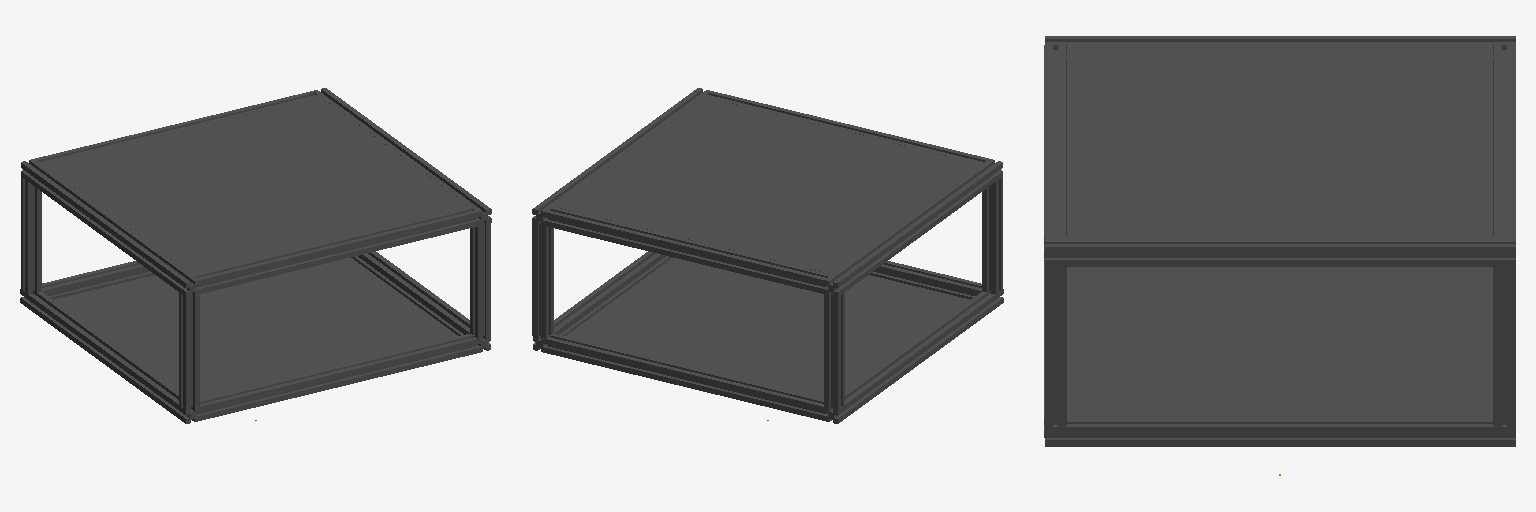
The robot description file, URDF, robot "Volksbot":
<?xml version="1.0" ?>
<!-- =================================================================================== -->
<!-- |    This document was autogenerated by xacro from test.urdf.xacro                | -->
<!-- |    EDITING THIS FILE BY HAND IS NOT RECOMMENDED                                 | -->
<!-- =================================================================================== -->
<robot name="Volksbot" xmlns:body="http://playerstage.sourceforge.net/gazebo/xmlschema/#body" xmlns:controller="http://playerstage.sourceforge.net/gazebo/xmlschema/#controller" xmlns:gazebo="http://playerstage.sourceforge.net/gazebo/xmlschema/#gz" xmlns:geom="http://playerstage.sourceforge.net/gazebo/xmlschema/#geom" xmlns:interface="http://playerstage.sourceforge.net/gazebo/xmlschema/#interface" xmlns:joint="http://playerstage.sourceforge.net/gazebo/xmlschema/#joint" xmlns:model="http://playerstage.sourceforge.net/gazebo/xmlschema/#model" xmlns:physics="http://playerstage.sourceforge.net/gazebo/xmlschema/#physics" xmlns:renderable="http://playerstage.sourceforge.net/gazebo/xmlschema/#renderable" xmlns:rendering="http://playerstage.sourceforge.net/gazebo/xmlschema/#rendering" xmlns:sensor="http://playerstage.sourceforge.net/gazebo/xmlschema/#sensor" xmlns:xacro="http://ros.org/wiki/xacro" xmlns:xi="http://www.w3.org/2001/XInclude">
  <!--Variable Pi definieren-->
  <!-- alter Wert 25 -->
  <!-- alter Wert 0.75 -->
  <!-- ######################  base_footprint  #######################################################
 its a fictitious link(frame) that is on the ground right below base_link origin, navigation stack depends on this frame-->
  <link name="base_footprint">
    <visual>
      <geometry>
        <box size="0.001 0.001 0.001"/>
      </geometry>
      <origin rpy="0 0 0" xyz="0 0 0"/>
    </visual>
    <!--		<collision>
			<geometry>
				<box size="0.001 0.001 0.001"/>
			</geometry>
			<origin xyz="0 0 0"/>
		</collision>
		<inertial>
			<mass value="0.0001"/>
			<inertia ixx="0.0001" ixy="0.0" ixz="0.0" iyy="0.0001" iyz="0.0" izz="0.0001"/>
			<origin xyz="0 0 0.0" />
		</inertial>  -->
  </link>
  <joint name="base_footprint_joint" type="fixed">
    <parent link="base_footprint"/>
    <child link="base_link"/>
    <origin rpy="0 0 0" xyz="0 0 0"/>
  </joint>
  <!-- #######################  Main Body  ###################################-->
  <link name="base_link">
    <visual>
      <geometry>
        <mesh filename="package://volksbot_new/Media/VolksbotChassis.stl"/>
      </geometry>
      <origin rpy="0 0 0" xyz="0 0 0.175"/>
      <material name="blue">
        <color rgba="0.36 .36 .36 1"/>
      </material>
    </visual>
    <collision>
      <geometry>
        <mesh filename="package://volksbot_new/Media/VolksbotChassis.stl"/>
      </geometry>
      <origin xyz="0 0 0.175"/>
    </collision>
    <inertial>
      <mass value="25"/>
      <inertia ixx="0.83333" ixy="0.0" ixz="0.0" iyy="1.0052" iyz="0.0" izz="0.33854"/>
      <origin xyz="0 0 0.075"/>
    </inertial>
  </link>
  <gazebo reference="base_link">
    <material name="Gazebo/Grey"/>
    <!--		<material>Gazebo/Grey</material> -->
    <turnGravityOff>false</turnGravityOff>
  </gazebo>
  <!--  ##############################  Rad vorne Rechts  ##############################-->
  <link name="right_front_wheel">
    <visual>
      <geometry>
        <mesh filename="package://volksbot_new/Media/original5.stl"/>
      </geometry>
      <origin rpy="1.57079632679 0 0" xyz="0 0 0"/>
      <material name="grey">
        <color rgba="0.1 0.1 0.1 1"/>
      </material>
    </visual>
    <collision>
      <geometry>
        <cylinder length="0.085" radius="0.13"/>
      </geometry>
      <origin rpy="1.57079632679 0 0" xyz="0 0 0"/>
    </collision>
    <inertial>
      <mass value="0.85"/>
      <inertia ixx="0.0041" ixy="0.0" ixz="0.0" iyy="0.0041" iyz="0.0" izz="0.00718"/>
      <origin xyz="0 0 0.0"/>
    </inertial>
  </link>
  <joint name="right_front_wheel_joint" type="continuous">
    <axis xyz="0 1 0"/>
    <parent link="base_link"/>
    <child link="right_front_wheel"/>
    <origin rpy="0 0 0" xyz="0.14 -0.2075 0.13"/>
    <limit effort="100" velocity="100"/>
    <dynamics damping="0.0" friction="0.0"/>
  </joint>
  <gazebo reference="right_front_wheel">
    <mu1 value="100"/>
    <!--100-->
    <mu2 value="100"/>
    <!--100-->
    <kp value="1000000.0"/>
    <!--100000000.0-->
    <kd value="10000.0"/>
    <!--10000.0 -->
    <fdir value="1 0 0"/>
    <friction value="100.0"/>
    <material>Gazebo/Grey</material>
    <turnGravityOff>false</turnGravityOff>
  </gazebo>
  <!--  ###############################  Rad hinten Rechts  ########################################## -->
  <link name="right_back_wheel">
    <visual>
      <geometry>
        <mesh filename="package://volksbot_new/Media/original5.stl"/>
      </geometry>
      <origin rpy="1.57079632679 0 0" xyz="0 0 0"/>
      <material name="grey">
        <color rgba="0.1 0.1 0.1 1"/>
      </material>
    </visual>
    <collision>
      <geometry>
        <cylinder length="0.085" radius="0.13"/>
      </geometry>
      <origin rpy="1.57079632679 0 0" xyz="0 0 0"/>
    </collision>
    <inertial>
      <mass value="0.85"/>
      <inertia ixx="0.0041" ixy="0.0" ixz="0.0" iyy="0.0041" iyz="0.0" izz="0.00718"/>
      <origin xyz="0 0 0.0"/>
    </inertial>
  </link>
  <joint name="right_back_wheel_joint" type="continuous">
    <axis xyz="0 1 0"/>
    <parent link="base_link"/>
    <child link="right_back_wheel"/>
    <origin rpy="0 0 0" xyz="-0.14 -0.2075 0.13"/>
    <limit effort="100" velocity="100"/>
    <dynamics damping="0.0" friction="0.0"/>
  </joint>
  <gazebo reference="right_back_wheel">
    <mu1 value="100"/>
    <mu2 value="100"/>
    <kp value="1000000.0"/>
    <kd value="10000.0"/>
    <fdir value="1 0 0"/>
    <friction value="100.0"/>
    <material>Gazebo/Grey</material>
    <turnGravityOff>false</turnGravityOff>
  </gazebo>
  <!--  ####################################  Rad vorne Links #######################################-->
  <link name="left_front_wheel">
    <visual>
      <geometry>
        <mesh filename="package://volksbot_new/Media/original5.stl"/>
      </geometry>
      <origin rpy="1.57079632679 0 0" xyz="0 0 0"/>
      <material name="grey">
        <color rgba="0.1 0.1 0.1 1"/>
      </material>
    </visual>
    <collision>
      <geometry>
        <cylinder length="0.085" radius="0.13"/>
      </geometry>
      <origin rpy="1.57079632679 0 0" xyz="0 0 0"/>
    </collision>
    <inertial>
      <mass value="0.85"/>
      <inertia ixx="0.0041" ixy="0.0" ixz="0.0" iyy="0.0041" iyz="0.0" izz="0.00718"/>
      <origin xyz="0 0 0.0"/>
    </inertial>
  </link>
  <joint name="left_front_wheel_joint" type="continuous">
    <axis xyz="0 1 0"/>
    <parent link="base_link"/>
    <child link="left_front_wheel"/>
    <origin rpy="0 0 0" xyz="0.14 0.2075 0.13"/>
    <limit effort="100" velocity="100"/>
    <dynamics damping="0.0" friction="0.0"/>
  </joint>
  <gazebo reference="left_front_wheel">
    <mu1 value="100"/>
    <mu2 value="100"/>
    <kp value="1000000.0"/>
    <kd value="10000.0"/>
    <fdir value="1 0 0"/>
    <friction value="100.0"/>
    <material>Gazebo/Grey</material>
    <turnGravityOff>false</turnGravityOff>
  </gazebo>
  <!-- #############################  Rad hinten Links  ######################################-->
  <link name="left_back_wheel">
    <visual>
      <geometry>
        <mesh filename="package://volksbot_new/Media/original5.stl"/>
      </geometry>
      <origin rpy="1.57079632679 0 0" xyz="0 0 0"/>
      <material name="grey">
        <color rgba="0.1 0.1 0.1 1"/>
      </material>
    </visual>
    <collision>
      <geometry>
        <cylinder length="0.085" radius="0.13"/>
      </geometry>
      <origin rpy="1.57079632679 0 0" xyz="0 0 0"/>
    </collision>
    <inertial>
      <mass value="0.85"/>
      <inertia ixx="0.0041" ixy="0.0" ixz="0.0" iyy="0.0041" iyz="0.0" izz="0.00718"/>
      <origin xyz="0 0 0.0"/>
    </inertial>
  </link>
  <joint name="left_back_wheel_joint" type="continuous">
    <axis xyz="0 1 0"/>
    <parent link="base_link"/>
    <child link="left_back_wheel"/>
    <origin rpy="0 0 0" xyz="-0.14 0.2075 0.13"/>
    <limit effort="100" velocity="100"/>
    <dynamics damping="0.0" friction="0.0"/>
  </joint>
  <gazebo reference="left_back_wheel">
    <mu1 value="100"/>
    <mu2 value="100"/>
    <kp value="1000000.0"/>
    <kd value="10000.0"/>
    <fdir value="1 0 0"/>
    <friction value="100.0"/>
    <material>Gazebo/Grey</material>
    <turnGravityOff>false</turnGravityOff>
  </gazebo>
</robot>

--- Render facts (derived) ---
3 views of the same robot in one strip: view 1: azimuth 30°, elevation 25°; view 2: azimuth 150°, elevation 25°; view 3: azimuth 270°, elevation 25° (orthographic).
Robot: Volksbot — 6 links, 5 joints (4 continuous, 1 fixed); root link base_footprint; default pose: every joint at zero.
Links seen in each view (by area): view 1: base_link; view 2: base_link; view 3: base_link.
Link boxes in pixels (bbox=[...]): base_link: bbox=[20, 88, 491, 423]; base_link: bbox=[532, 88, 1003, 423]; base_link: bbox=[1044, 36, 1515, 446].
Bounding box of the posed robot: 0.34 × 0.32 × 0.2505 m (x, y, z).
1 mesh visuals loaded from 2 distinct referenced files (1 binary STL); not drawn: 4 (reference not matched to a file when rendering).